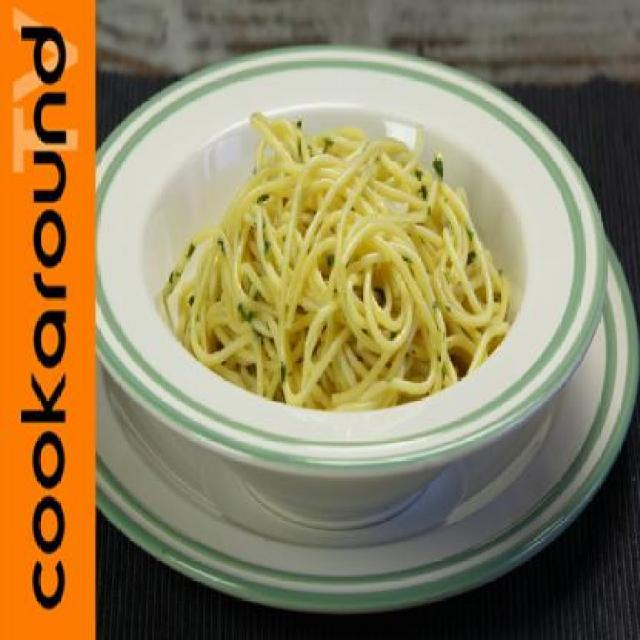Oil pasta: (182, 92, 520, 460)
